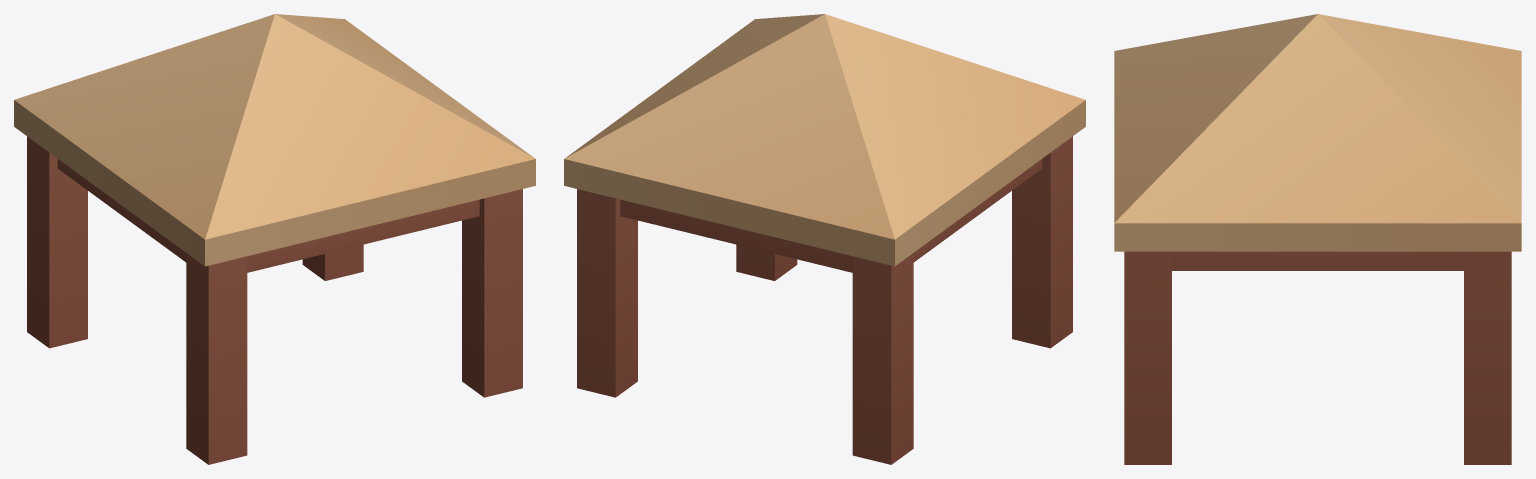
File: tent.glb
3 renders of one model, left to right at view 1: azimuth 30°, elevation 25°; view 2: azimuth 150°, elevation 25°; view 3: azimuth 270°, elevation 25°, orthographic. The views are drawn at different scales.
Visible parts, largest first — view 1: tent; view 2: tent; view 3: tent.
Boxes of the visible parts, box(x1,y1,x2,y2) form: tent: box(14, 14, 535, 464); tent: box(564, 14, 1085, 464); tent: box(1114, 14, 1521, 464).
Size of the model in its own units: 0.516 by 0.516 by 0.516.
1 material, 1 textured.
